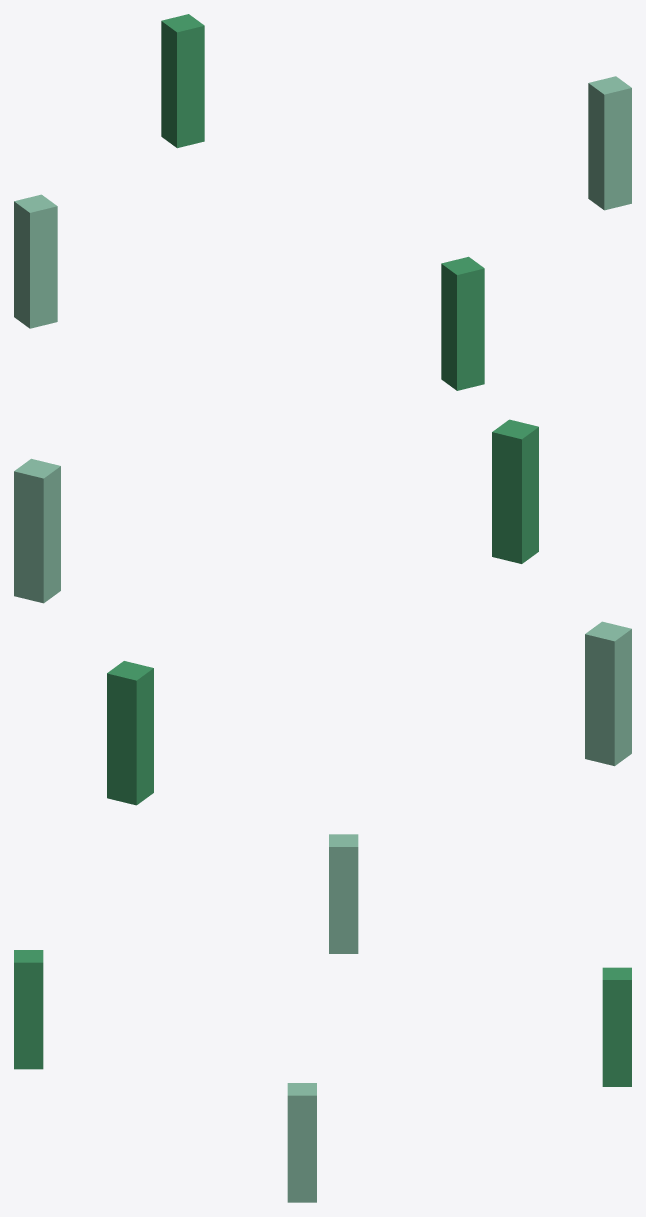
Rendered from boundary.glb.
3 renders of one model, top to bottom at view 1: azimuth 30°, elevation 25°; view 2: azimuth 150°, elevation 25°; view 3: azimuth 270°, elevation 25°, orthographic. The views are drawn at different scales.
Visible parts, largest first — view 1: boundary_0, boundary_1, boundary_2, boundary_3; view 2: boundary_0, boundary_2, boundary_1, boundary_3; view 3: boundary_0, boundary_2, boundary_1, boundary_3.
Part boxes in pixels (x1,y1,x2,y2): boundary_0: (588,76,631,210); boundary_1: (441,256,484,390); boundary_2: (14,194,57,328); boundary_3: (161,14,204,148); boundary_0: (14,458,60,603); boundary_2: (585,621,631,766); boundary_1: (492,419,538,563); boundary_3: (107,661,153,805); boundary_0: (287,1083,316,1202); boundary_2: (329,834,358,953); boundary_1: (14,950,43,1069); boundary_3: (602,967,631,1086).
Size of what is drawn, in the model's own units: 17.81 by 3.4 by 17.81.
